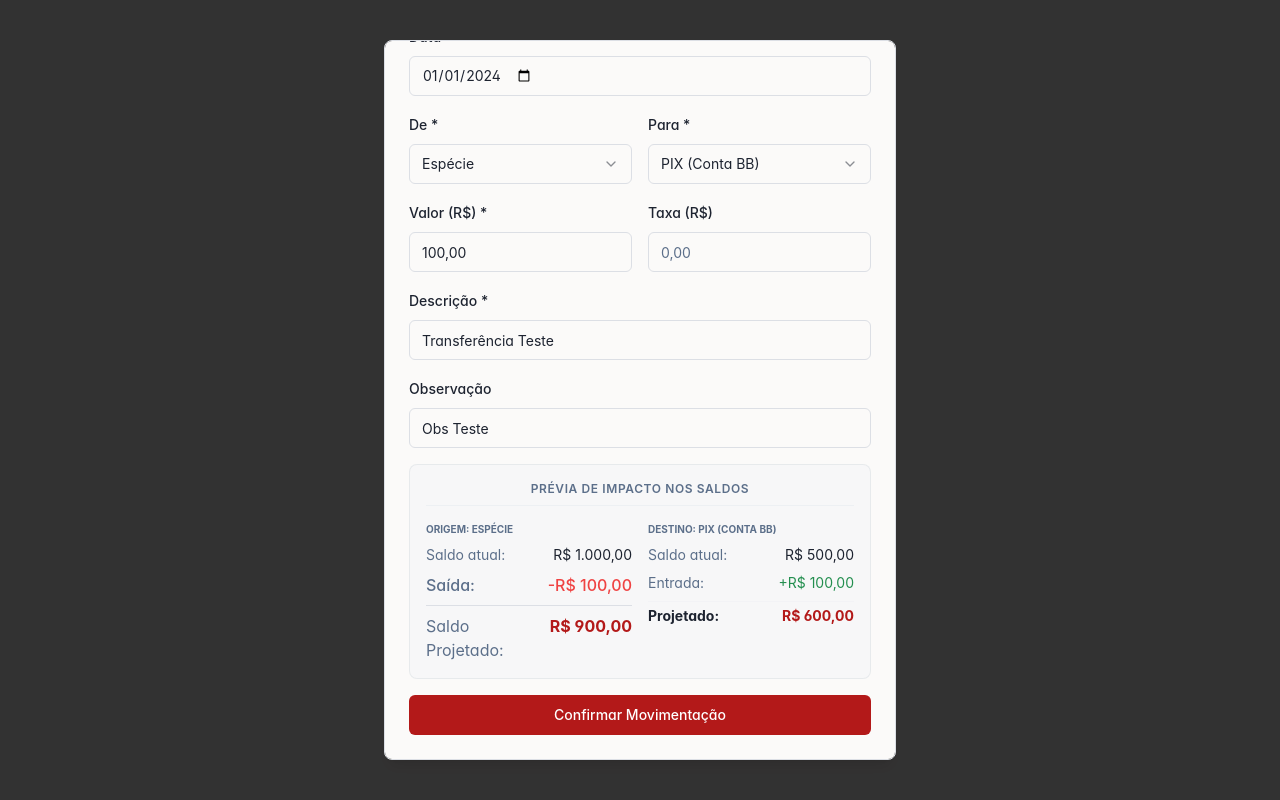
Scenario: MovimentarSaldoDialog component › should open confirmation dialog on click
This screenshot has width=1280, height=800.
(page scrolled)
Click the button "Confirmar Movimentação": (640, 715) [409,695,871,735]
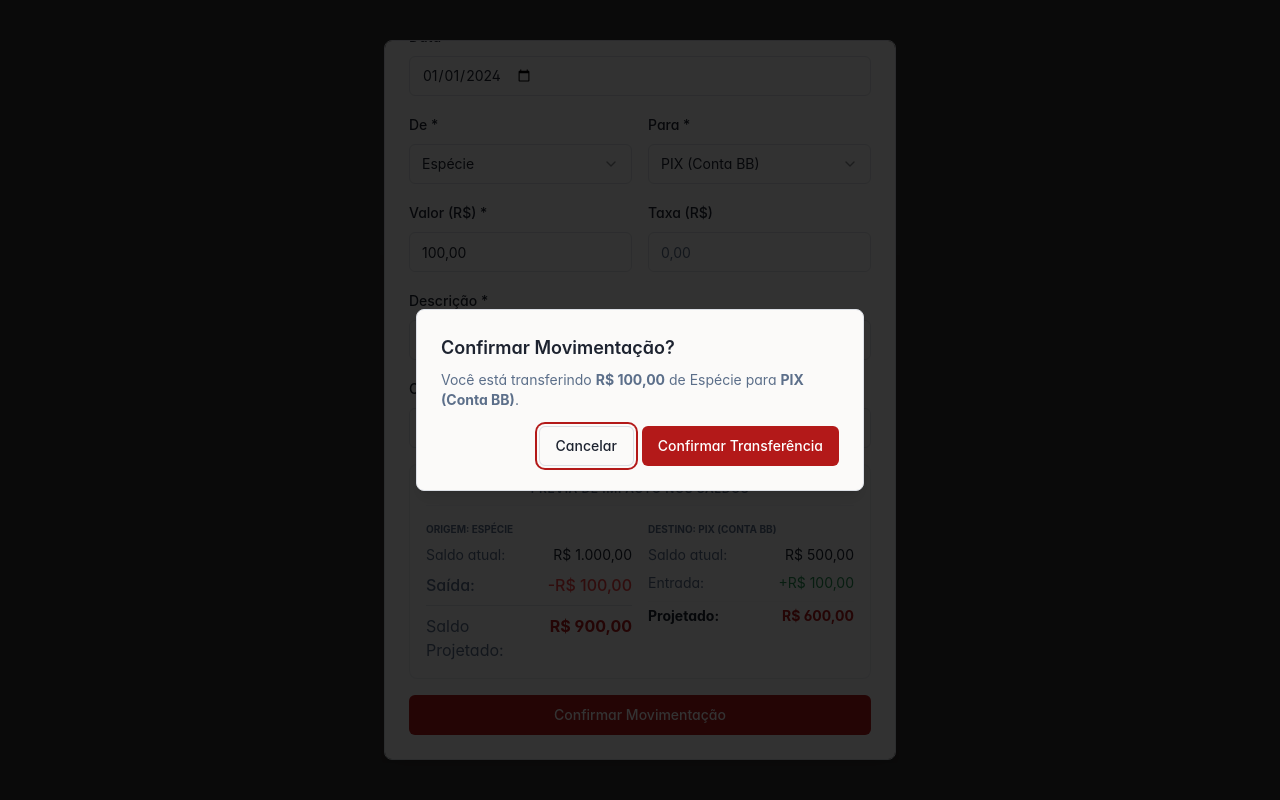
Result: the heading "Confirmar Movimentação?" is shown at [441,337,675,358]
Result: the text "Você está transferindo" is shown at [441,371,596,388]
